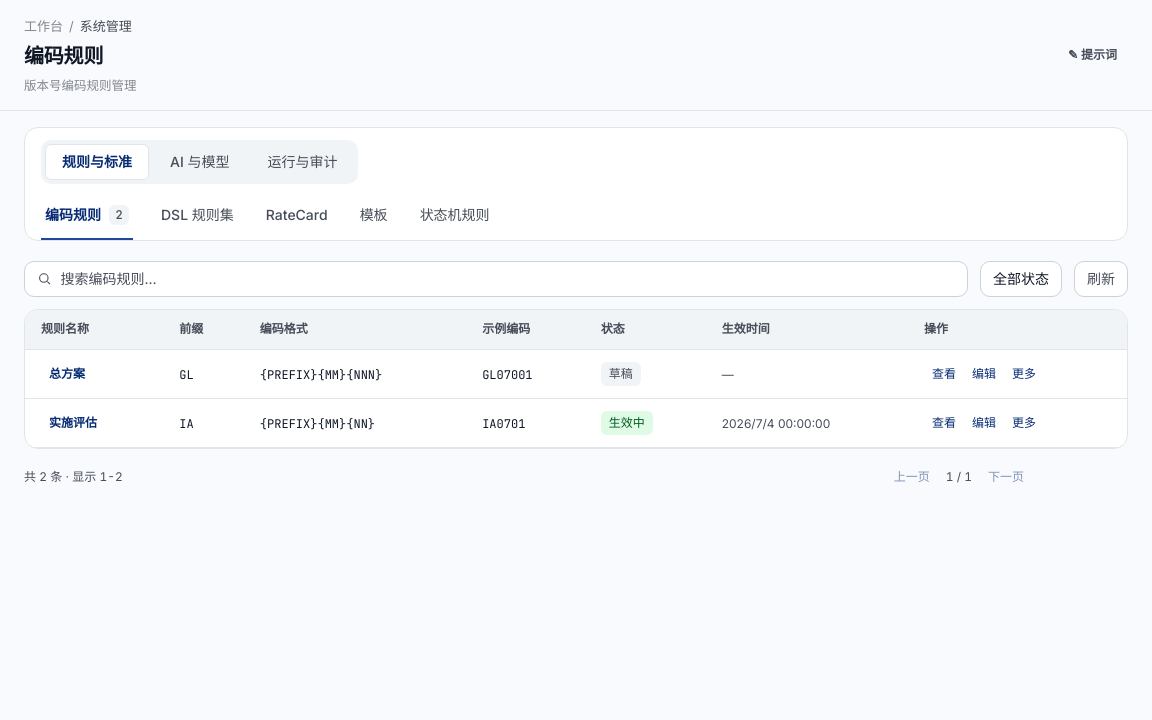
SystemManagement code rules actions › 列表按真实字段显示示例与生效时间，详情可由明确入口打开
Check: the text "GL07001" is shown, box [482,367,532,383]
Click the button with aria-label "查看 实施评估". click: (944, 423)
box: [924,407,964,439]
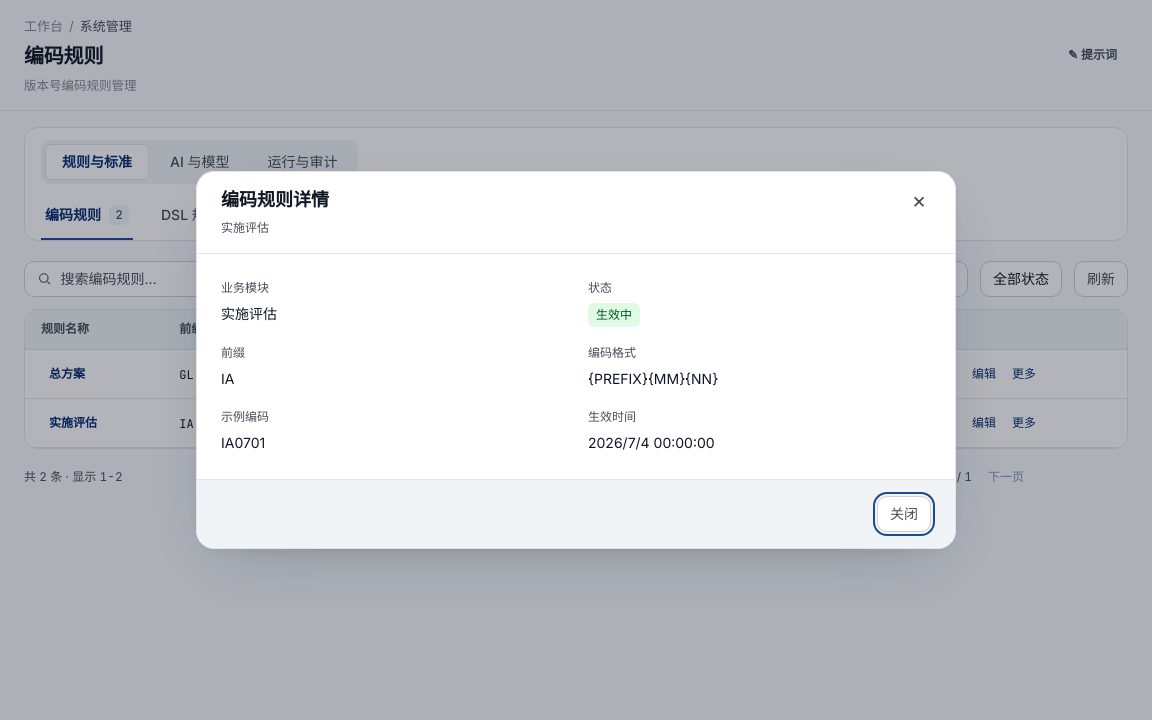
Check: the text "IA0701" is shown, box [221,434,265,451]
Check: the text "2026/7/4 00:00:00" is shown, box [588,434,715,451]
